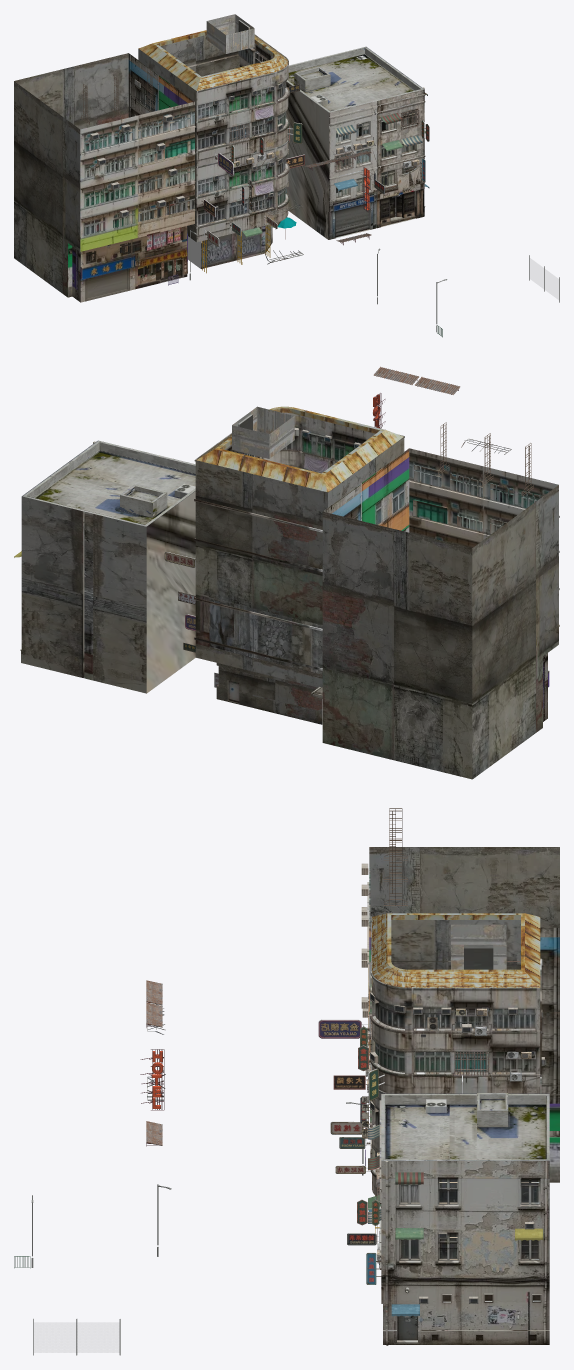
Rendered from block-hkiv-2.glb.
The picture shows the model from 3 angles, top to bottom: view 1: azimuth 30°, elevation 25°; view 2: azimuth 150°, elevation 25°; view 3: azimuth 270°, elevation 25°; orthographic projection. The views are drawn at different scales.
Visible parts, largest first — view 1: Object_174, Object_361, Object_318, Object_315, Object_382, Object_316, Object_362, Object_320, Object_323, Object_319, Object_322, Object_325 (+4 smaller); view 2: Object_174, Object_361, Object_382, Object_318, Object_320, Object_315, Object_325, Object_362, Object_316, Object_515, Object_323; view 3: Object_318, Object_174, Object_315, Object_382, Object_320, Object_316, Object_361, Object_322, Object_325, Object_323, Object_384, Object_588 (+3 smaller).
Part boxes in pixels (left/top/right/bottom): Object_174: left=14, top=35, right=303, bottom=297; Object_361: left=68, top=53, right=195, bottom=302; Object_318: left=266, top=82, right=425, bottom=251; Object_315: left=90, top=34, right=367, bottom=268; Object_382: left=286, top=46, right=424, bottom=112; Object_316: left=198, top=48, right=285, bottom=225; Object_362: left=85, top=114, right=190, bottom=280; Object_320: left=138, top=30, right=288, bottom=90; Object_323: left=81, top=68, right=559, bottom=337; Object_319: left=201, top=225, right=265, bottom=268; Object_322: left=204, top=120, right=429, bottom=246; Object_325: left=206, top=14, right=254, bottom=53; Object_174: left=20, top=437, right=559, bottom=779; Object_361: left=311, top=448, right=559, bottom=721; Object_382: left=22, top=440, right=195, bottom=526; Object_318: left=20, top=441, right=195, bottom=693; Object_320: left=196, top=406, right=403, bottom=492; Object_315: left=194, top=412, right=404, bottom=724; Object_325: left=232, top=406, right=294, bottom=458; Object_362: left=413, top=465, right=542, bottom=533; Object_316: left=237, top=432, right=358, bottom=460; Object_515: left=373, top=366, right=460, bottom=394; Object_323: left=167, top=422, right=533, bottom=616; Object_318: left=379, top=1100, right=549, bottom=1345; Object_174: left=147, top=847, right=559, bottom=1100; Object_315: left=361, top=863, right=544, bottom=1303; Object_382: left=381, top=1093, right=549, bottom=1160; Object_320: left=372, top=913, right=540, bottom=987; Object_316: left=375, top=1002, right=535, bottom=1156; Object_361: left=367, top=867, right=559, bottom=1182; Object_322: left=318, top=1020, right=379, bottom=1284; Object_325: left=451, top=924, right=506, bottom=969; Object_323: left=14, top=808, right=463, bottom=1355; Object_384: left=400, top=1178, right=539, bottom=1258; Object_588: left=368, top=1124, right=543, bottom=1316.
Bounding box in the file's own units: 70 × 38.85 × 63.35.
Materials: 23 (21 with a texture image).
